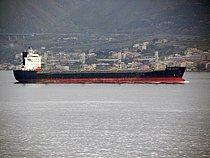Ship: (13, 44, 192, 88)
